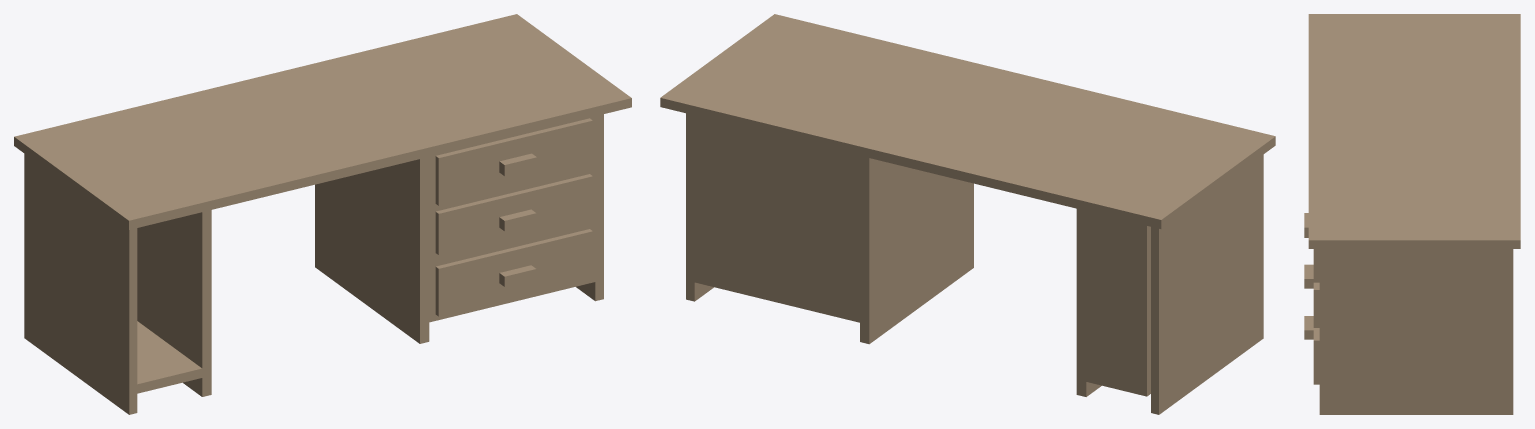
Rendered from mesaEscritorio.fbx.
The picture shows the model from 3 angles, left to right: view 1: azimuth 30°, elevation 25°; view 2: azimuth 150°, elevation 25°; view 3: azimuth 270°, elevation 25°; orthographic projection. The views are drawn at different scales.
Parts seen in each view (by area): view 1: Cube; view 2: Cube; view 3: Cube.
Boxes of the visible parts, left/top/right/bottom form: Cube: left=14, top=14, right=631, bottom=414; Cube: left=660, top=14, right=1275, bottom=414; Cube: left=1304, top=14, right=1520, bottom=414.
Bounding box in the file's own units: 386 × 147 × 156.
